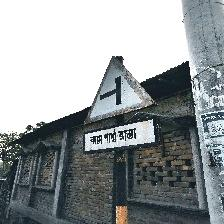Side-road-left: (82, 57, 159, 157)
